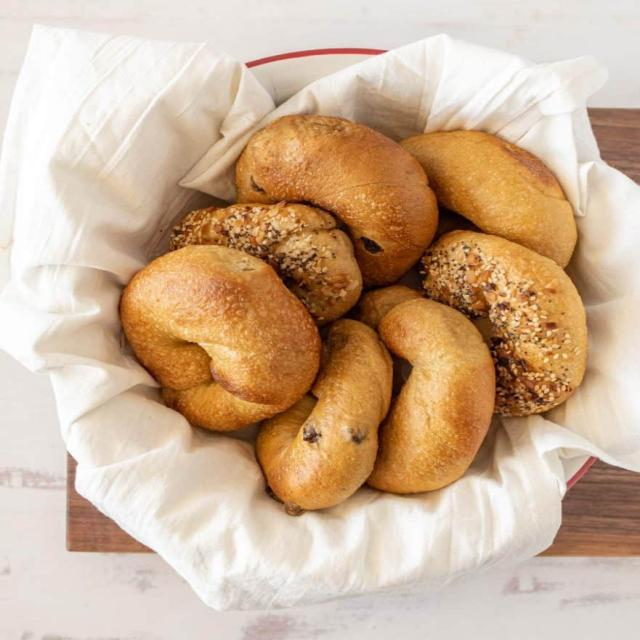Bagel: (121, 245, 321, 431), (237, 115, 437, 286), (421, 231, 587, 416), (256, 319, 392, 514), (368, 298, 495, 494), (400, 130, 577, 267), (170, 204, 362, 324)
